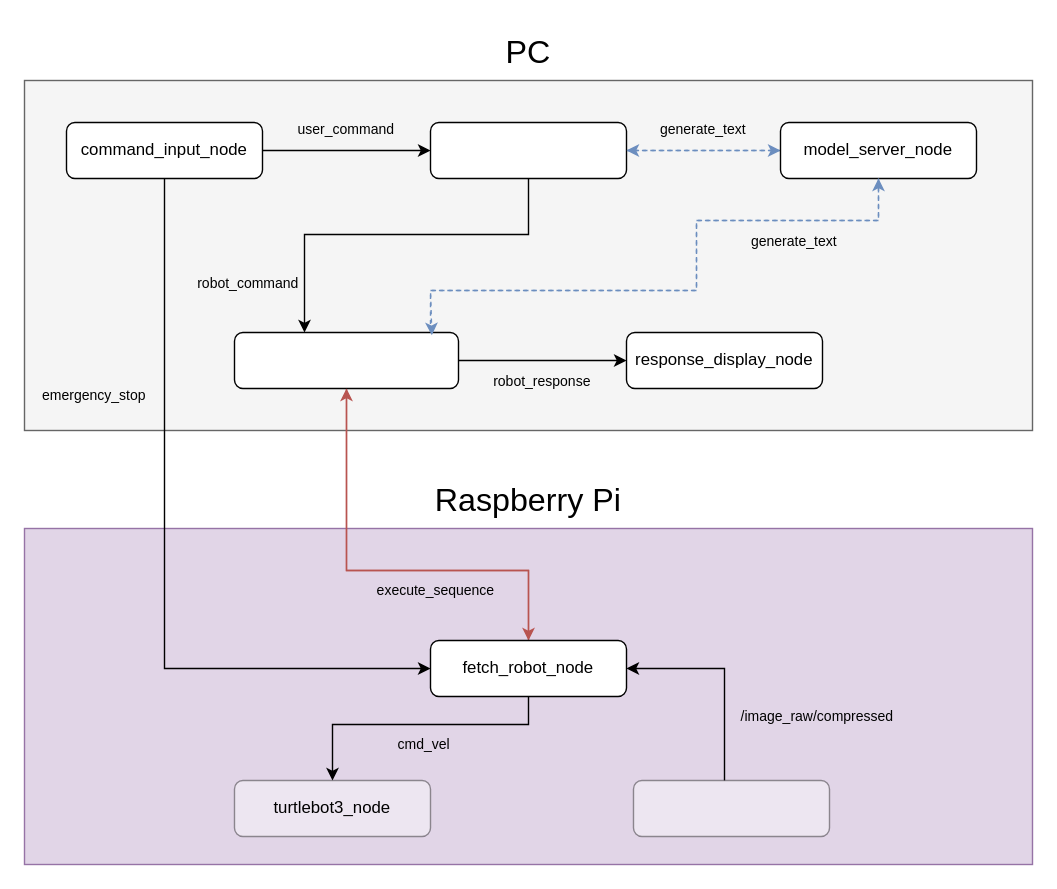
Image size: 1057x889. Some labels were removed from this diagram. The box of each missing label's shape, as (x1, y1, x2, y2) in pixels:
command_parser_node: (429, 121, 626, 178)
response_generator_node: (233, 331, 458, 388)
v4l2_camera_node: (632, 779, 830, 836)
